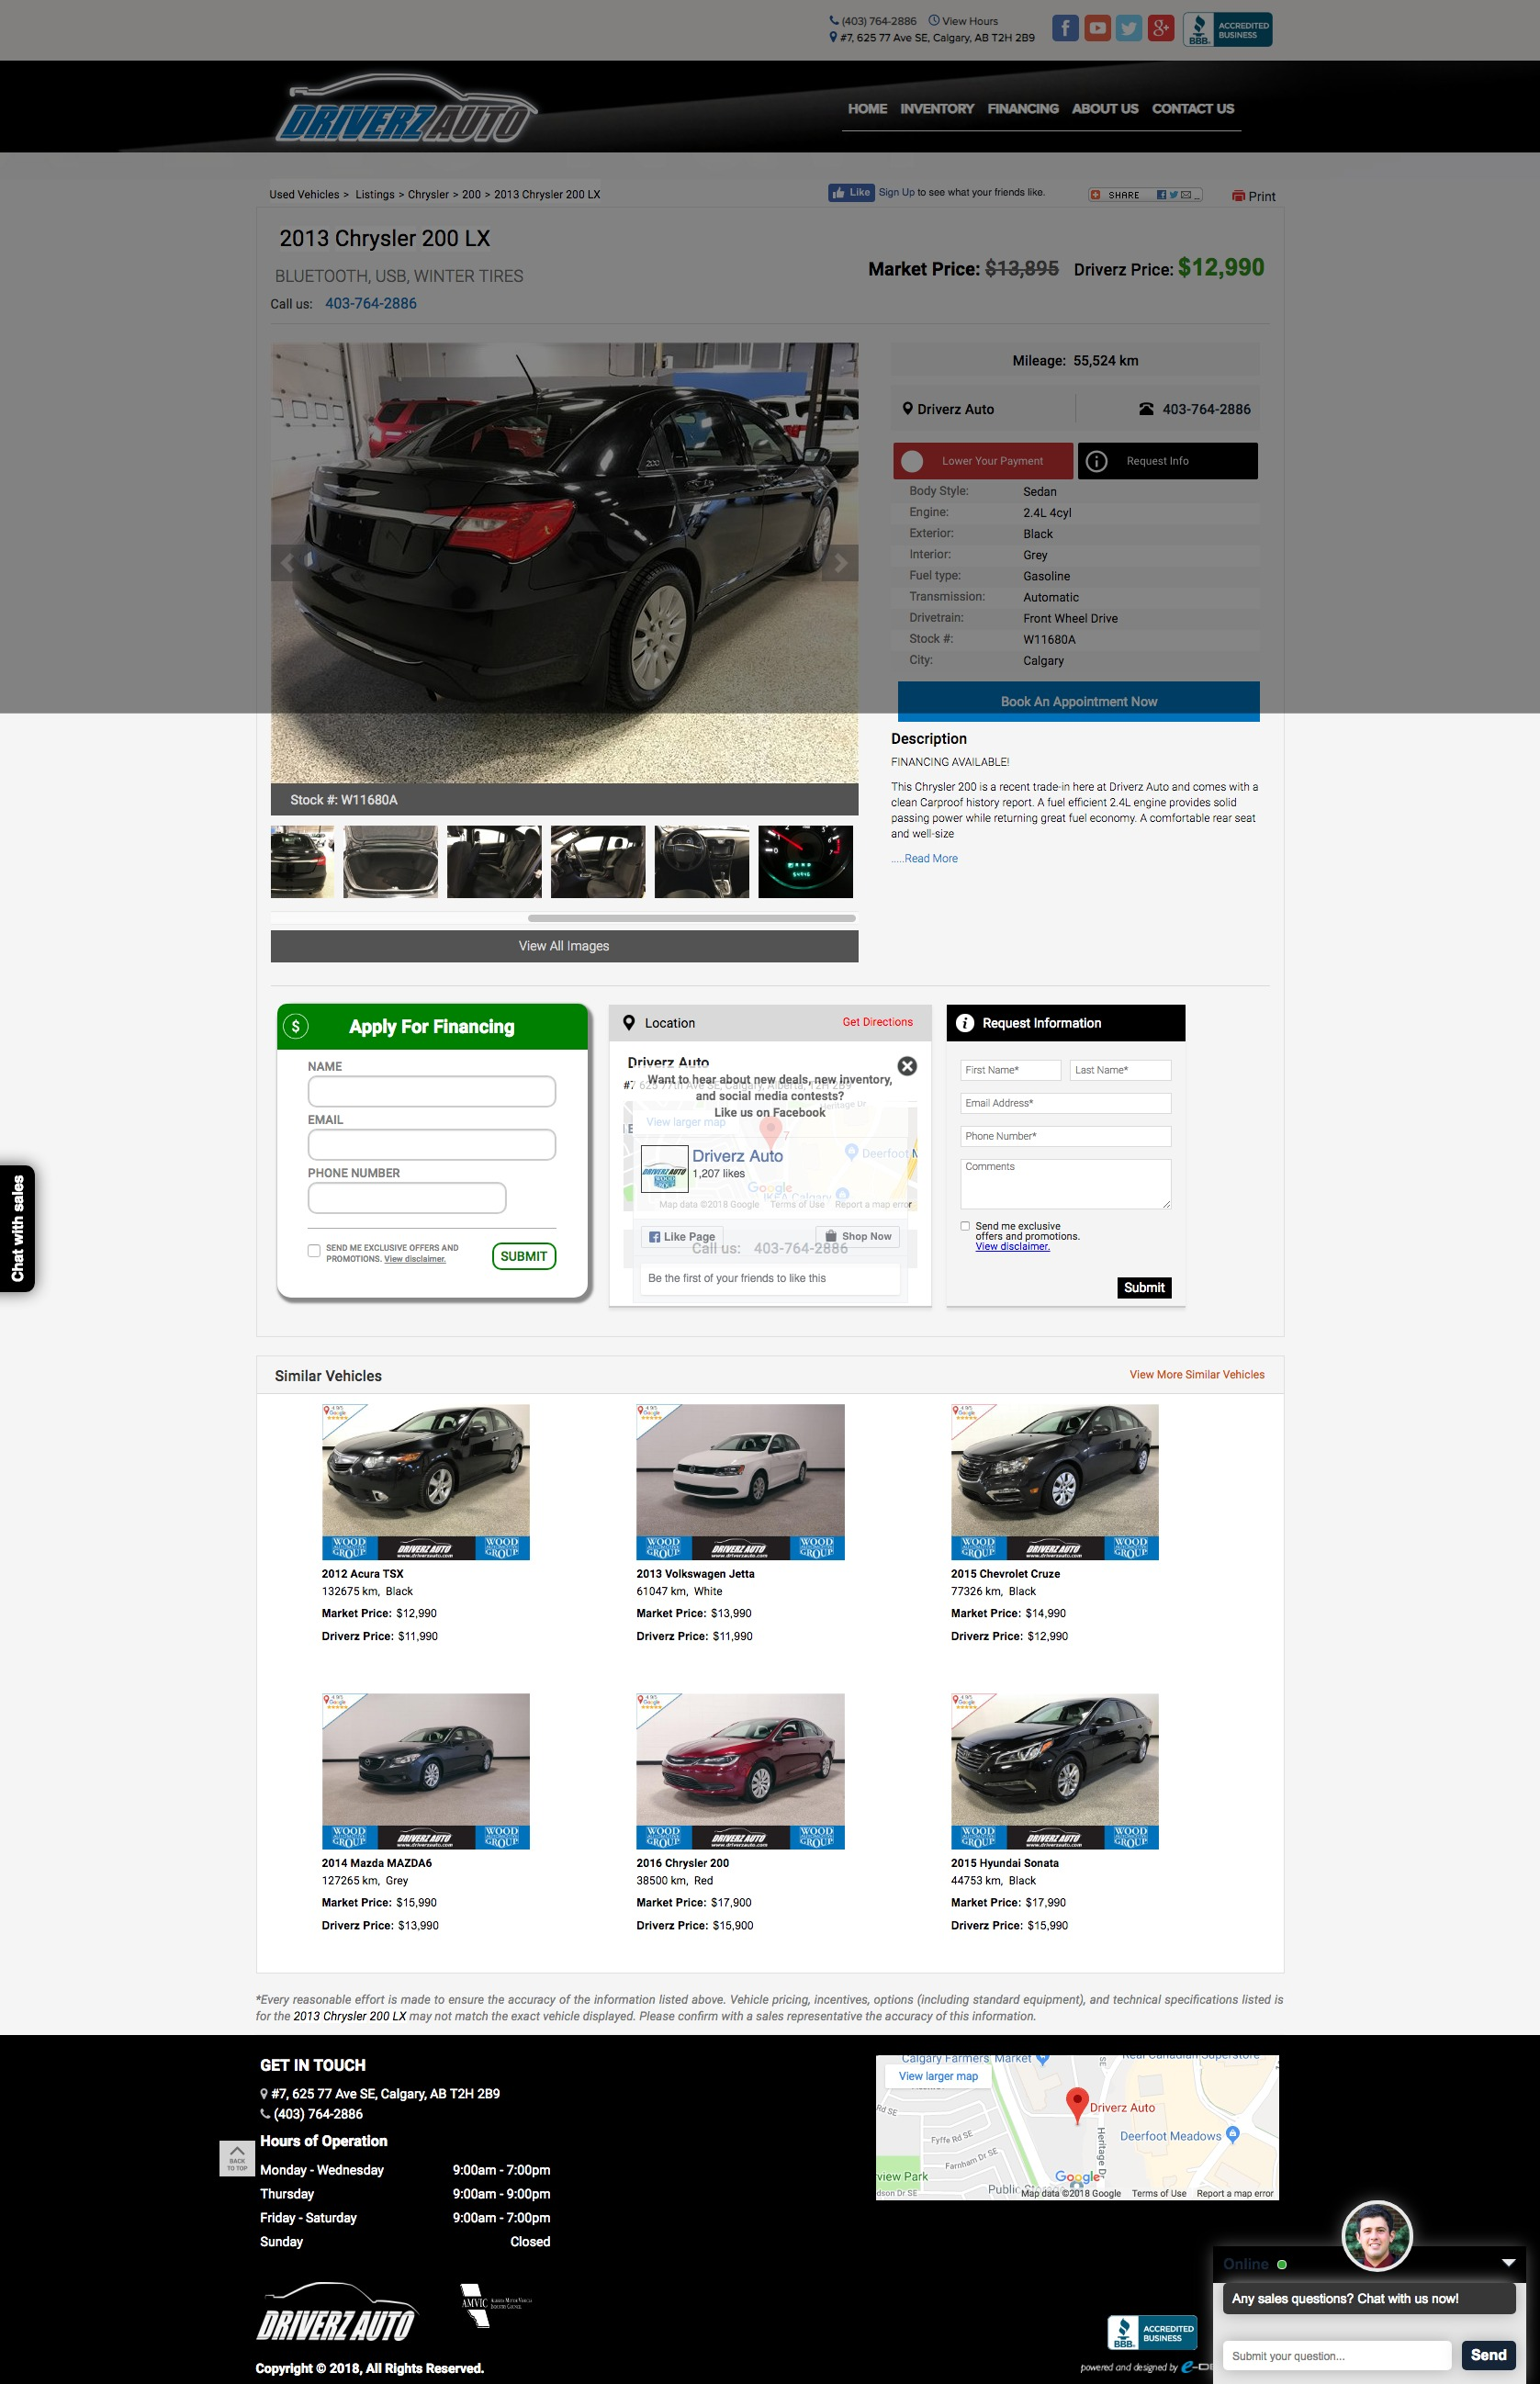car: (819, 544, 860, 584)
